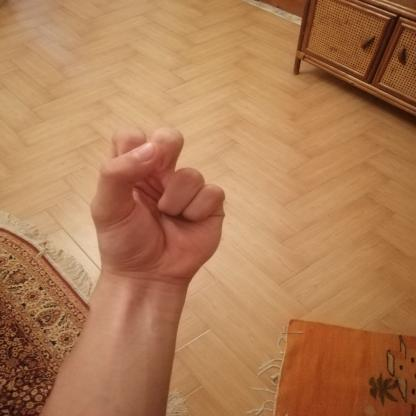QAAF: (74, 119, 246, 295)
